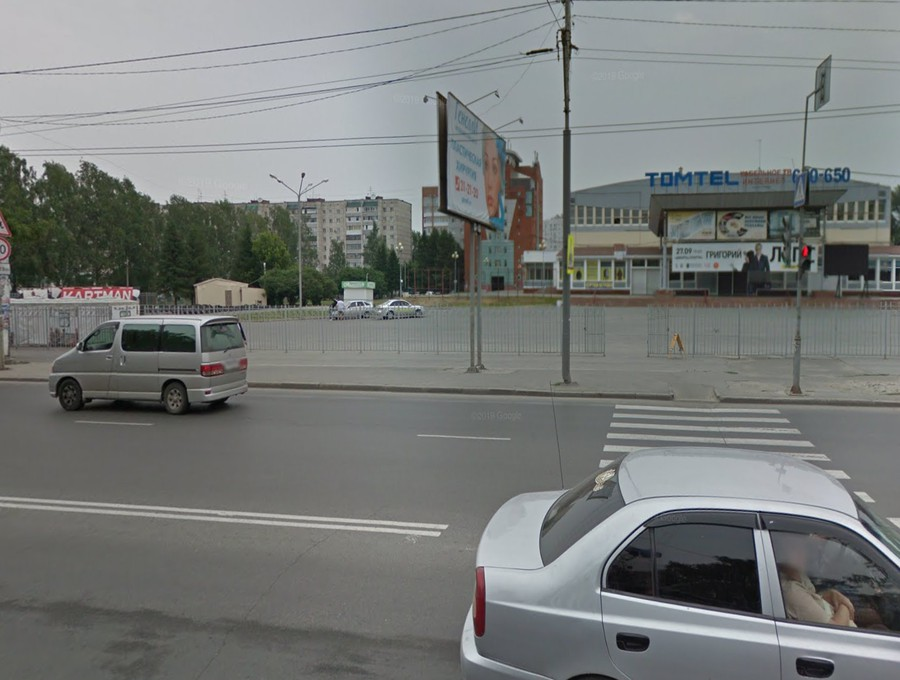Traffic Light-red: (796, 244, 813, 274)
